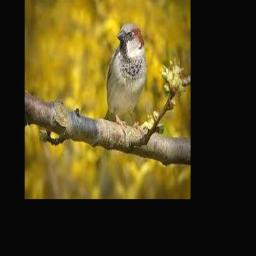Sparrow: (103, 22, 146, 128)
